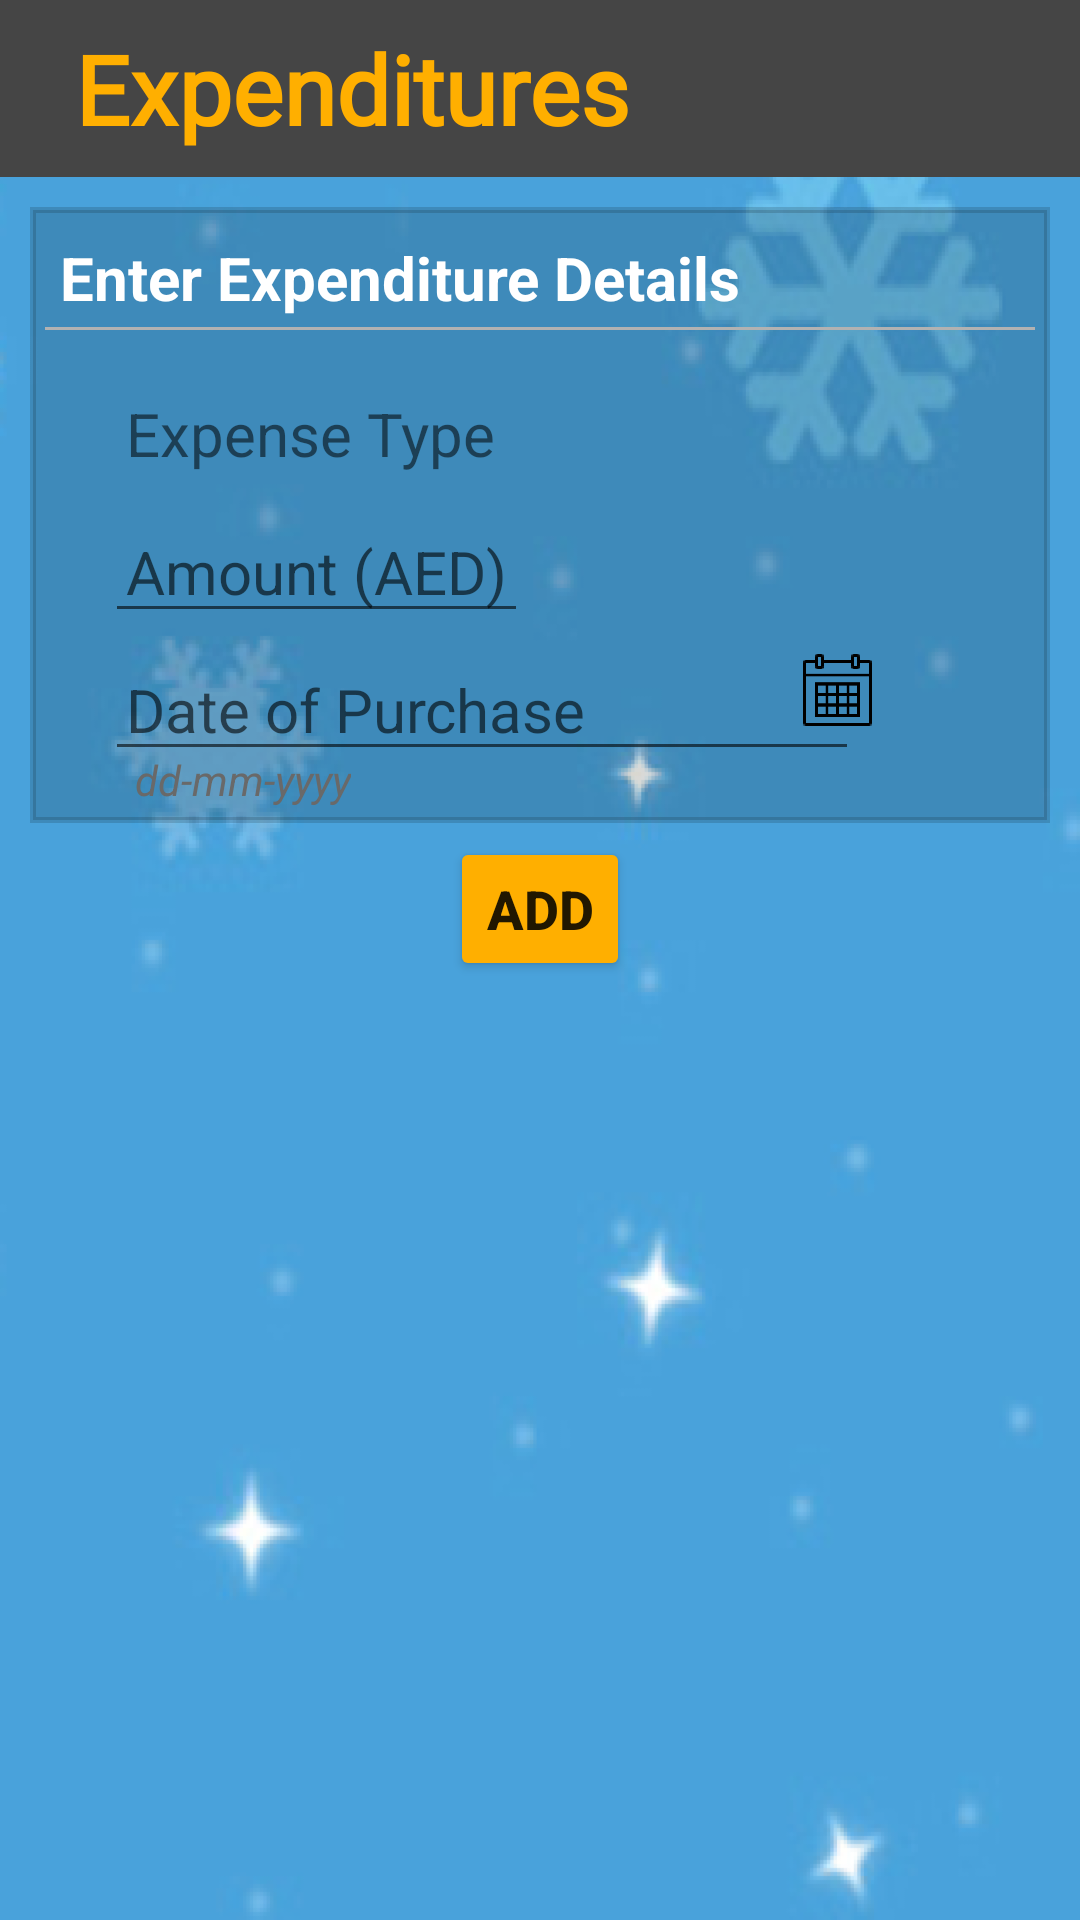

Locate icon controls on the screen. Image size 1080 x 1920, boxes as (x1, y1, x2, y2).
calendar: (803, 654, 872, 726)
